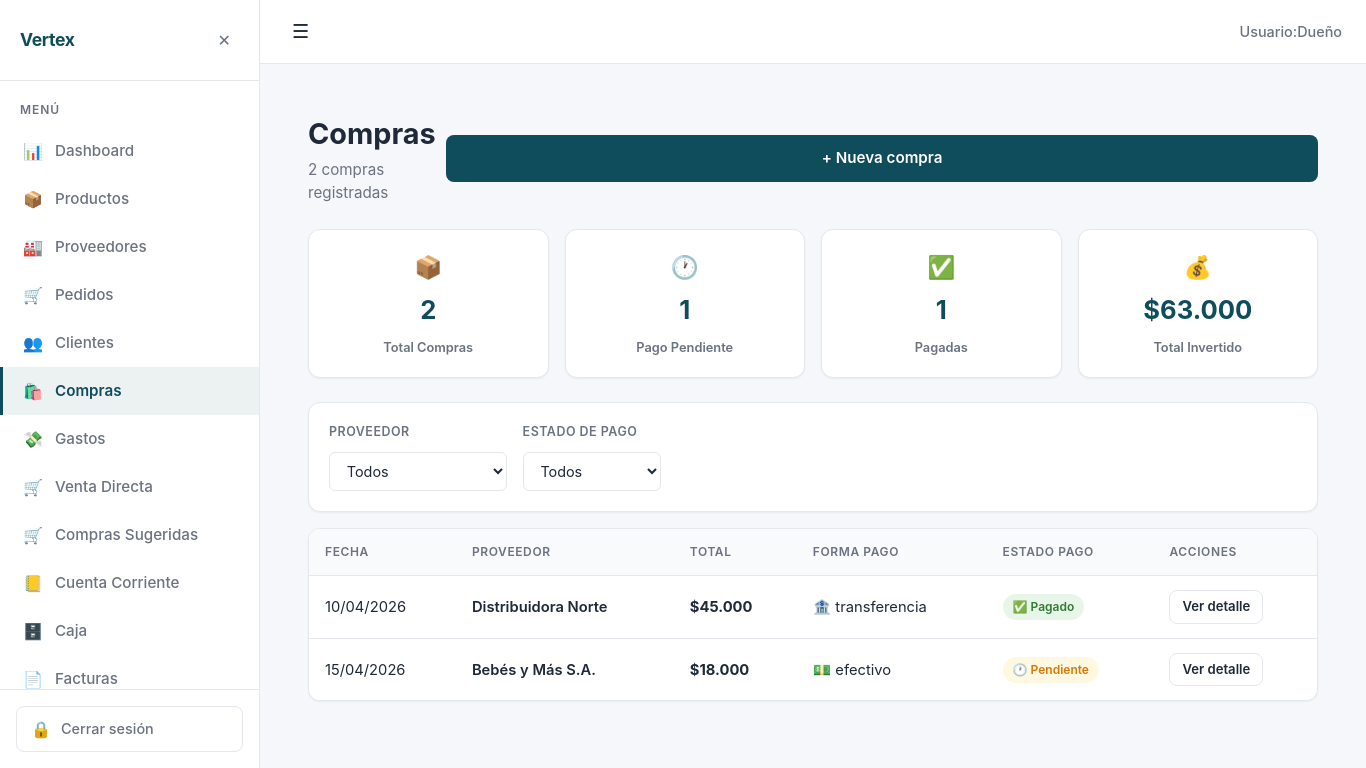
Compras › debería mostrar error si no se selecciona proveedor
Click the button "+ Nueva compra" at (882, 159), box [446,135,1318,182]
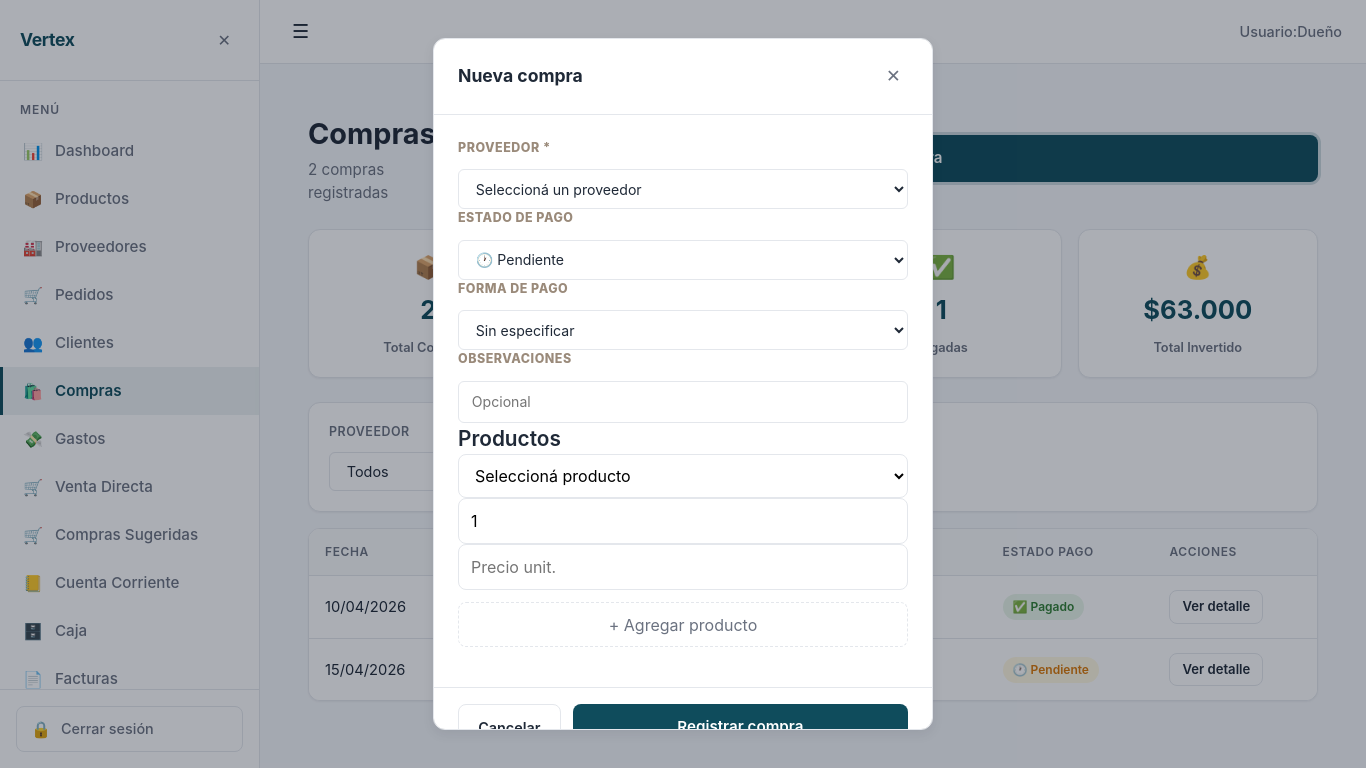
Click the button "Registrar compra" at (741, 728), box [573,704,908,751]
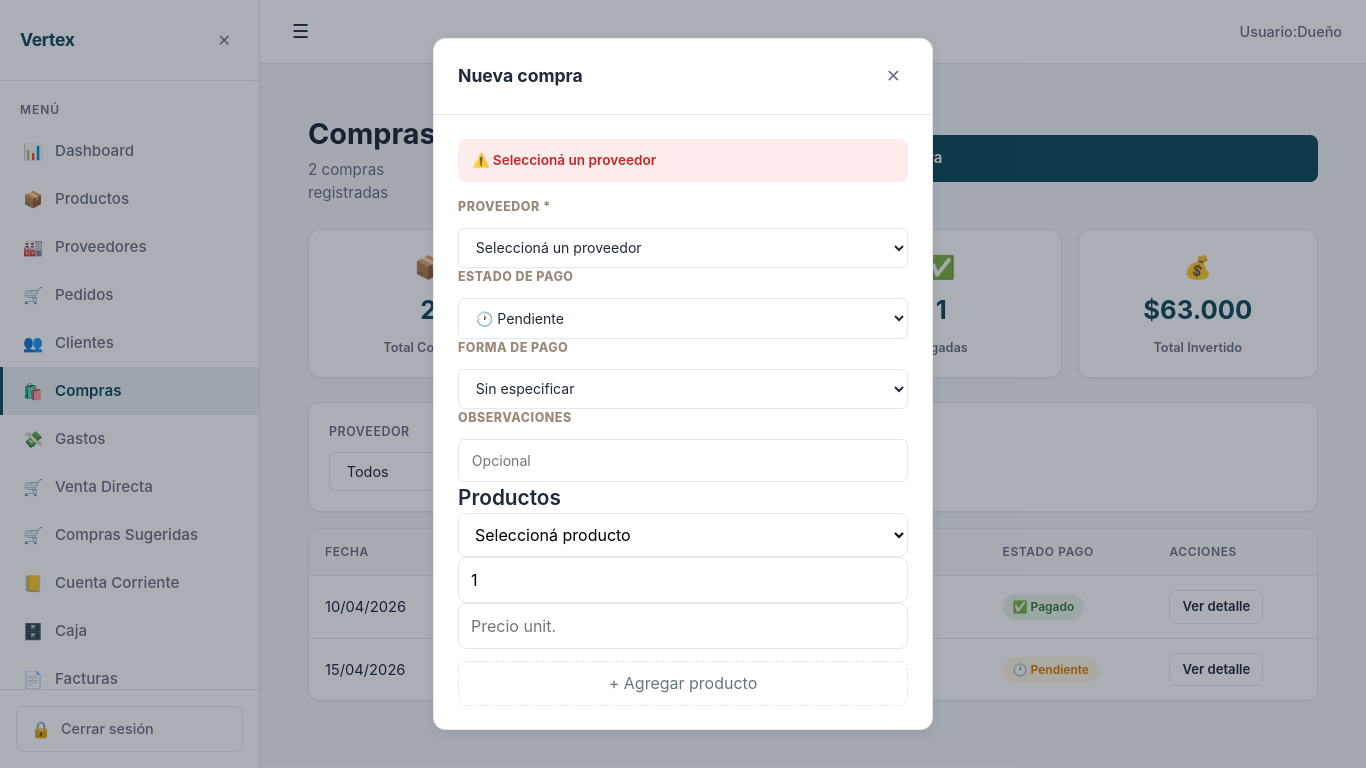
Expected: the text "Seleccioná un proveedor" is shown, [493,152,656,168]
